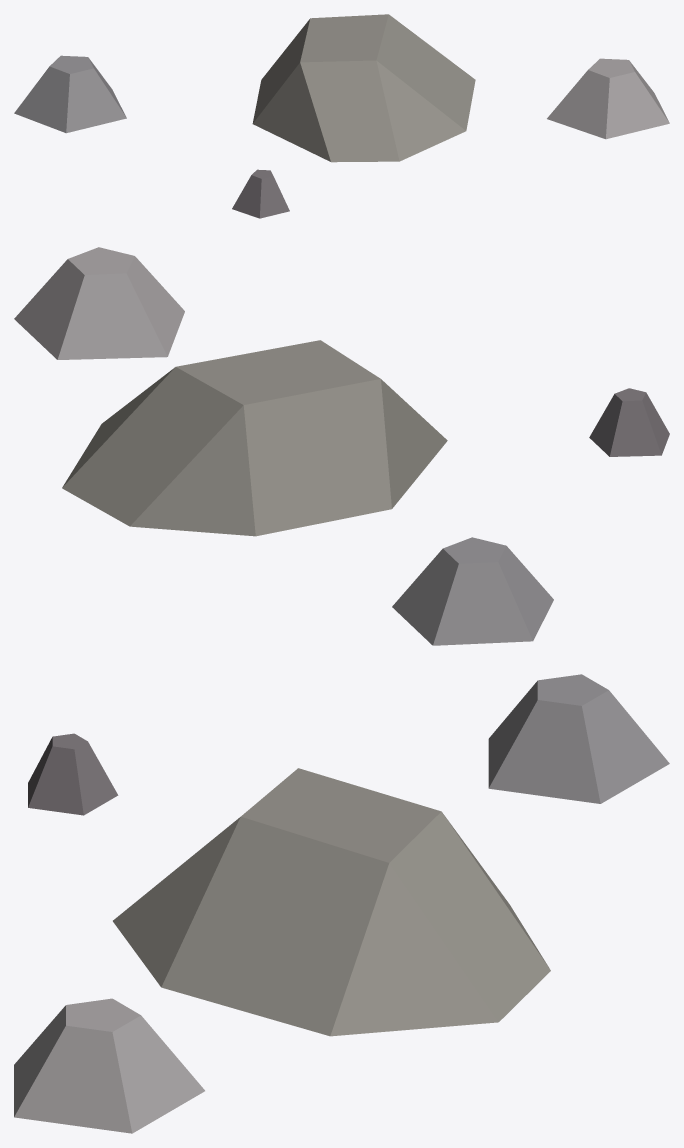
Rendered from Rocks_Round_s_05 2.fbx.
3 renders of one model, top to bottom at view 1: azimuth 30°, elevation 25°; view 2: azimuth 150°, elevation 25°; view 3: azimuth 270°, elevation 25°, orthographic. The views are drawn at different scales.
Visible parts, largest first — view 1: Rocks_Round_s_05; view 2: Rocks_Round_s_05; view 3: Rocks_Round_s_05.
Boxes of the visible parts, x1,y1,x2,y2 form: Rocks_Round_s_05: (14, 14, 669, 218); Rocks_Round_s_05: (14, 247, 669, 645); Rocks_Round_s_05: (14, 674, 669, 1133).
Size of the model in its own units: 48.72 by 6.7 by 32.9.
